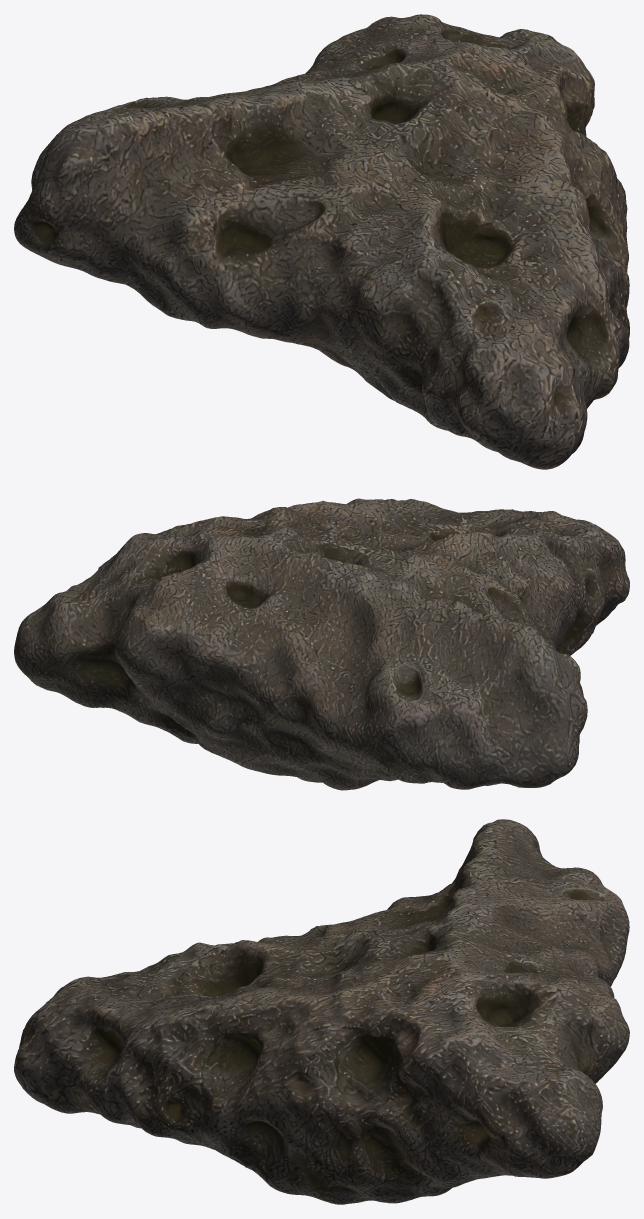
Rendered from asteroid_uncommon_3.glb.
3 views of the same model, one above another, from view 1: azimuth 30°, elevation 25°; view 2: azimuth 150°, elevation 25°; view 3: azimuth 270°, elevation 25° (orthographic). The views are drawn at different scales.
Parts seen in each view (by area): view 1: model; view 2: model; view 3: model.
Part boxes in pixels (box(x1,y1,x2,y2)): model: box(14, 14, 629, 469); model: box(14, 498, 629, 790); model: box(14, 819, 629, 1204).
Bounding box in the file's own units: 1.86 × 0.805 × 1.9.
Materials: 1 (1 with a texture image).
